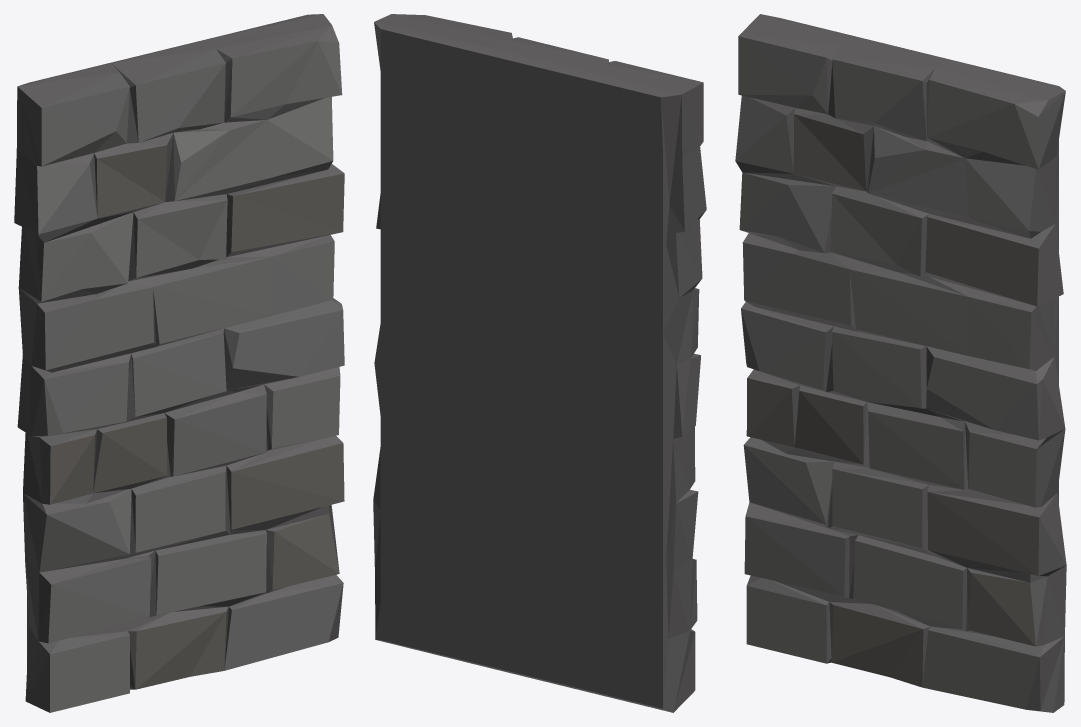
File: SM_Env_Wall_Half_01.FBX
3 views of the same model, side by side, from view 1: azimuth 30°, elevation 25°; view 2: azimuth 150°, elevation 25°; view 3: azimuth 330°, elevation 25° (orthographic).
Parts seen in each view (by area): view 1: SM_Env_Wall_Half_01; view 2: SM_Env_Wall_Half_01; view 3: SM_Env_Wall_Half_01.
Boxes of the visible parts, <box> form: SM_Env_Wall_Half_01: <box>14,14,344,712</box>; SM_Env_Wall_Half_01: <box>373,14,706,712</box>; SM_Env_Wall_Half_01: <box>735,14,1066,712</box>.
Size of what is drawn, in the model's own units: 267 by 43.57 by 510.
